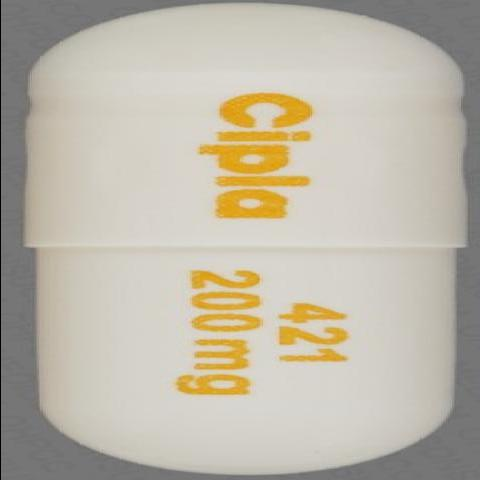Pill: (20, 4, 468, 480)
